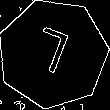L_S: (30, 25, 77, 83)
